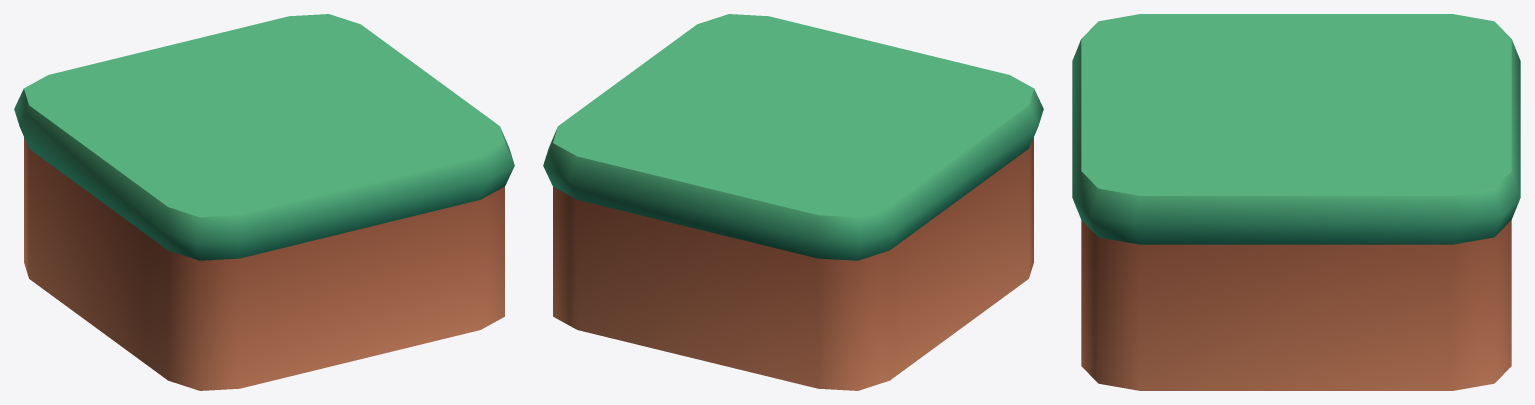
The model's file is block-large.glb.
3 views of the same model, side by side, from view 1: azimuth 30°, elevation 25°; view 2: azimuth 150°, elevation 25°; view 3: azimuth 270°, elevation 25° (orthographic). The views are drawn at different scales.
Parts seen in each view (by area): view 1: block-grass-large; view 2: block-grass-large; view 3: block-grass-large.
Boxes of the visible parts, left/top/right/bottom form: block-grass-large: left=14, top=14, right=514, bottom=390; block-grass-large: left=543, top=14, right=1043, bottom=390; block-grass-large: left=1072, top=14, right=1520, bottom=390.
Size of the model in its own units: 4.16 by 2 by 4.16.
1 material, 1 textured.
